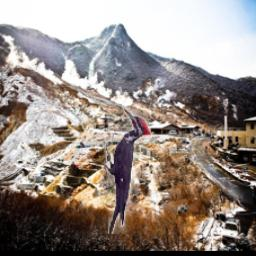Woodpecker: (104, 108, 151, 235)
